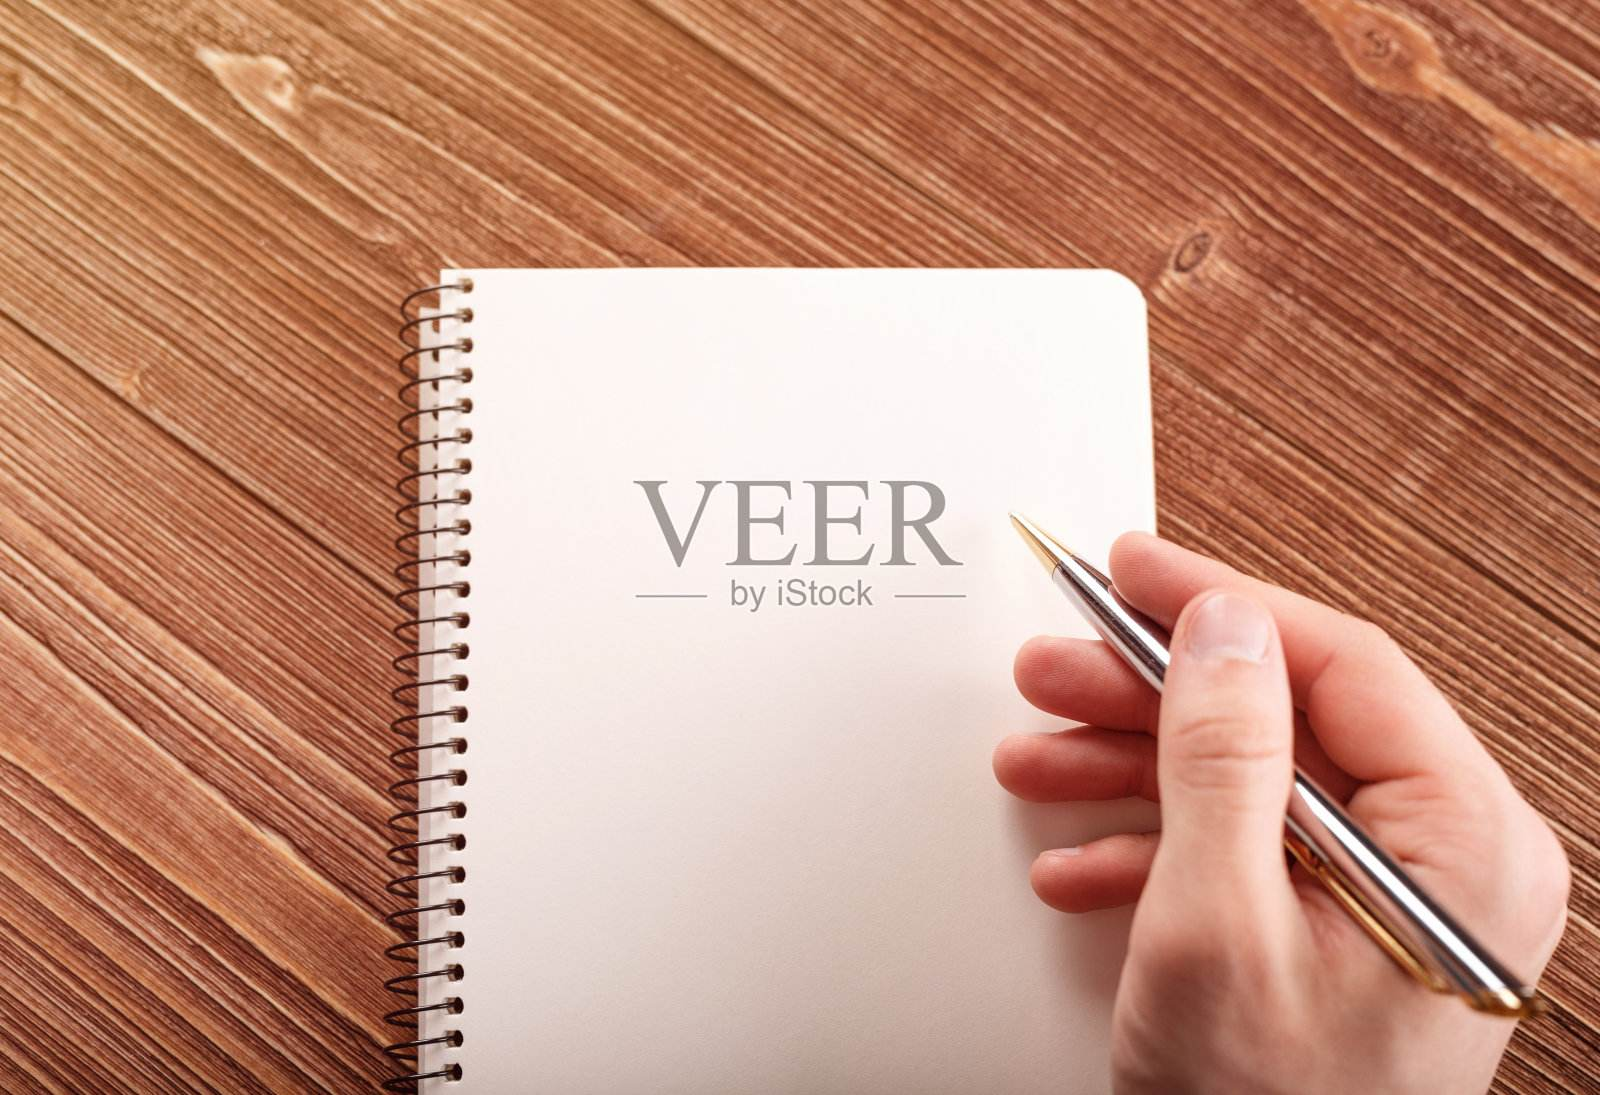no-phone: (978, 503, 1574, 1089)
